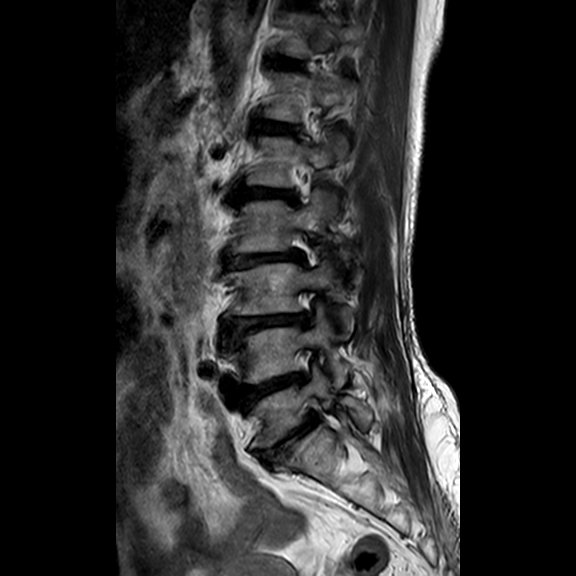LFS0: (279, 154, 326, 218)
